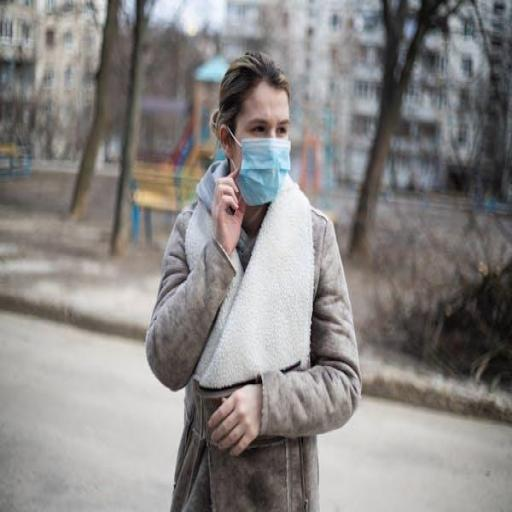mask: (215, 64, 302, 214)
